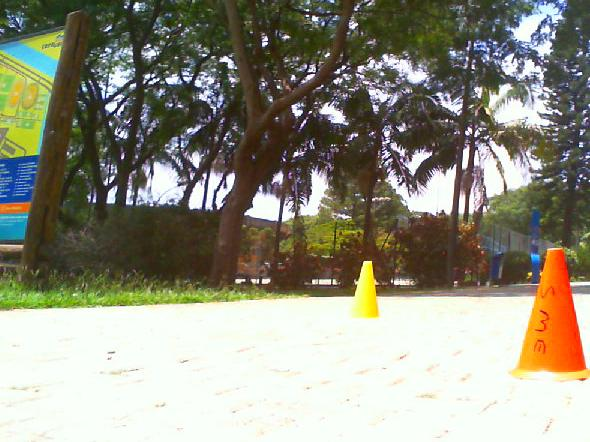0 cone: (512, 247, 590, 377), (353, 261, 378, 320)
